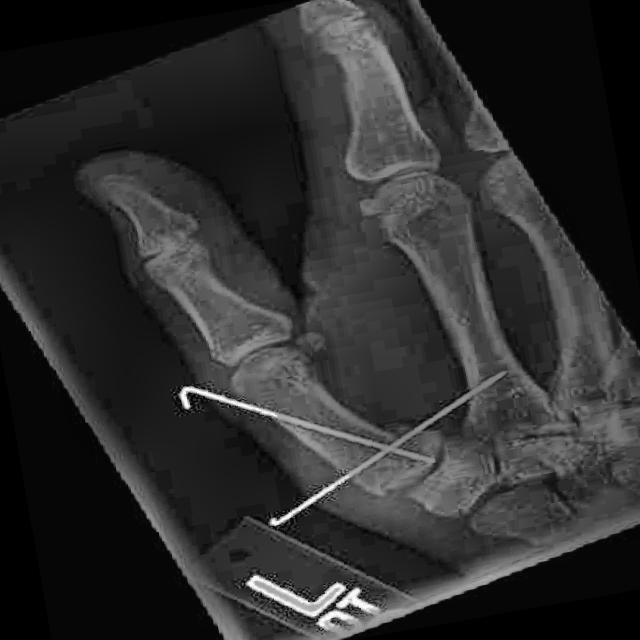fingers positive: (346, 390, 467, 515)
